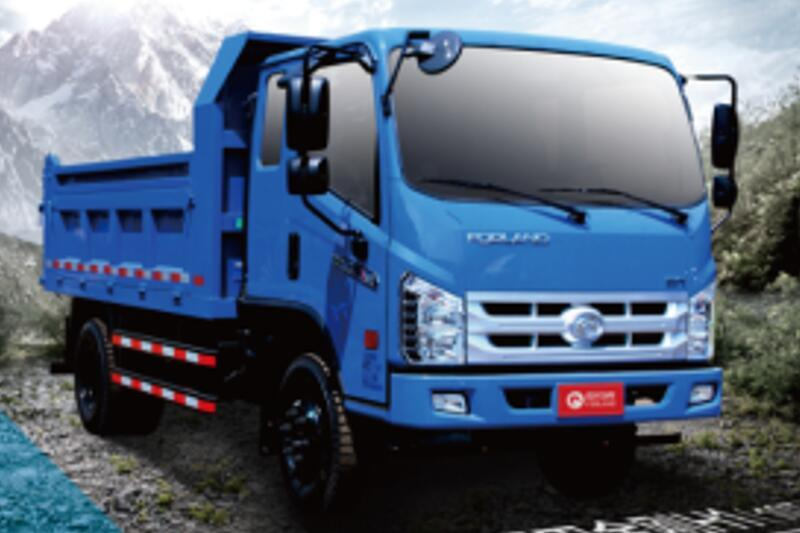truck: (25, 26, 762, 521)
